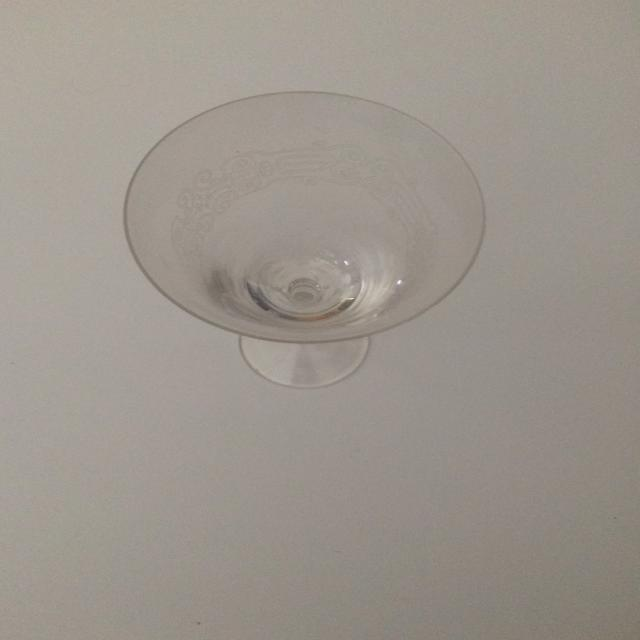glass: (122, 89, 488, 389)
